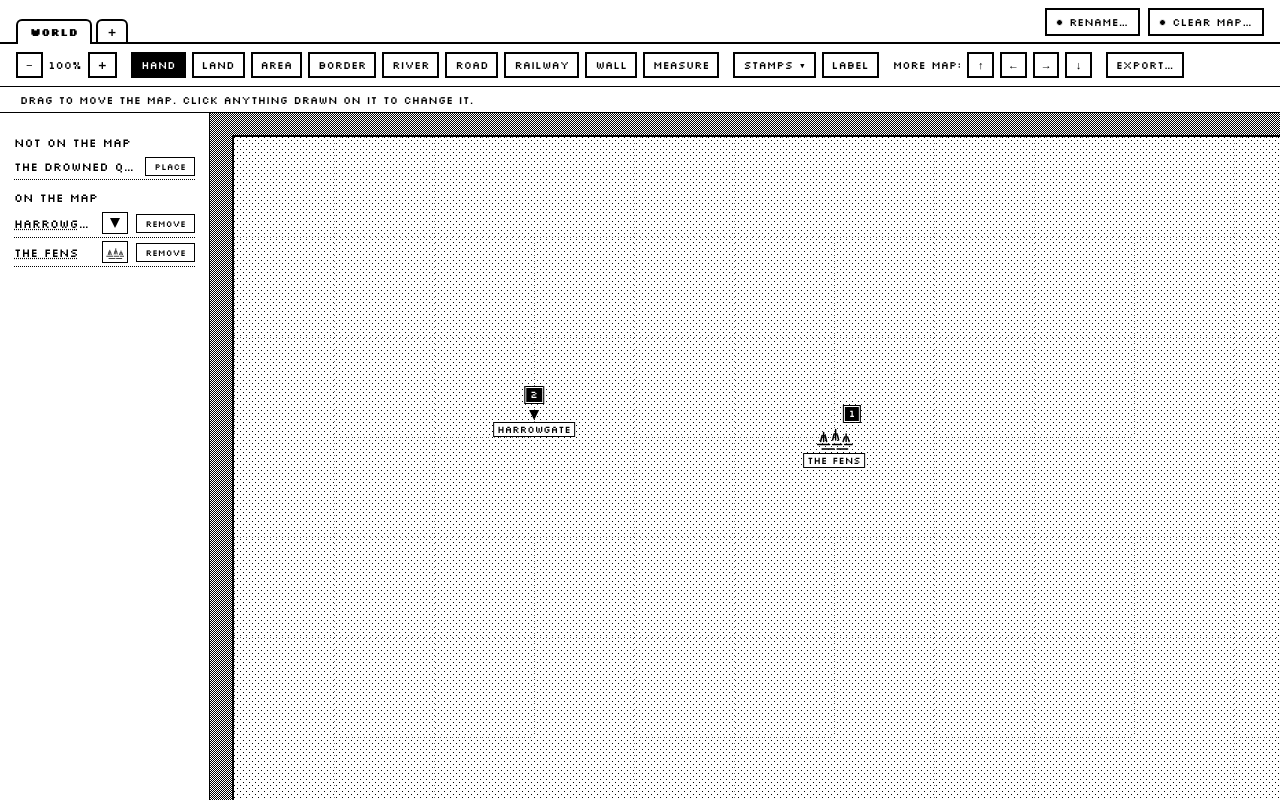
scenes on the map › opens and closes from its marker, one list at a time, over the other markers
This screenshot has width=1280, height=800.
Expected: the button with class "map-scene-count" showing "2" is shown, [525,387,543,403]
Click the button named "1 scene at The Fens" at (852, 414), box [844,406,860,422]
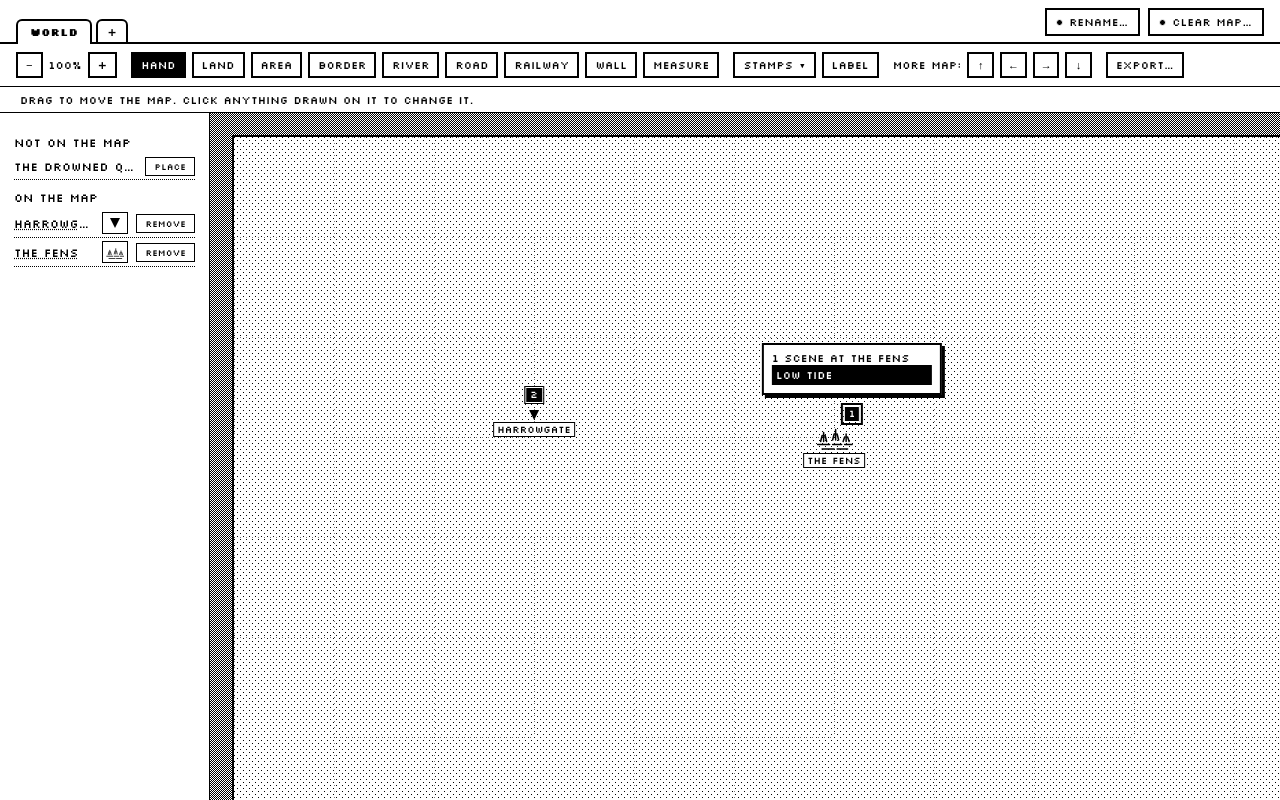
Expected: the button named "1 scene at The Fens" is expanded, [844,406,860,422]
Click the button named "2 scenes at Harrowgate" at (534, 395), box [525,387,543,403]
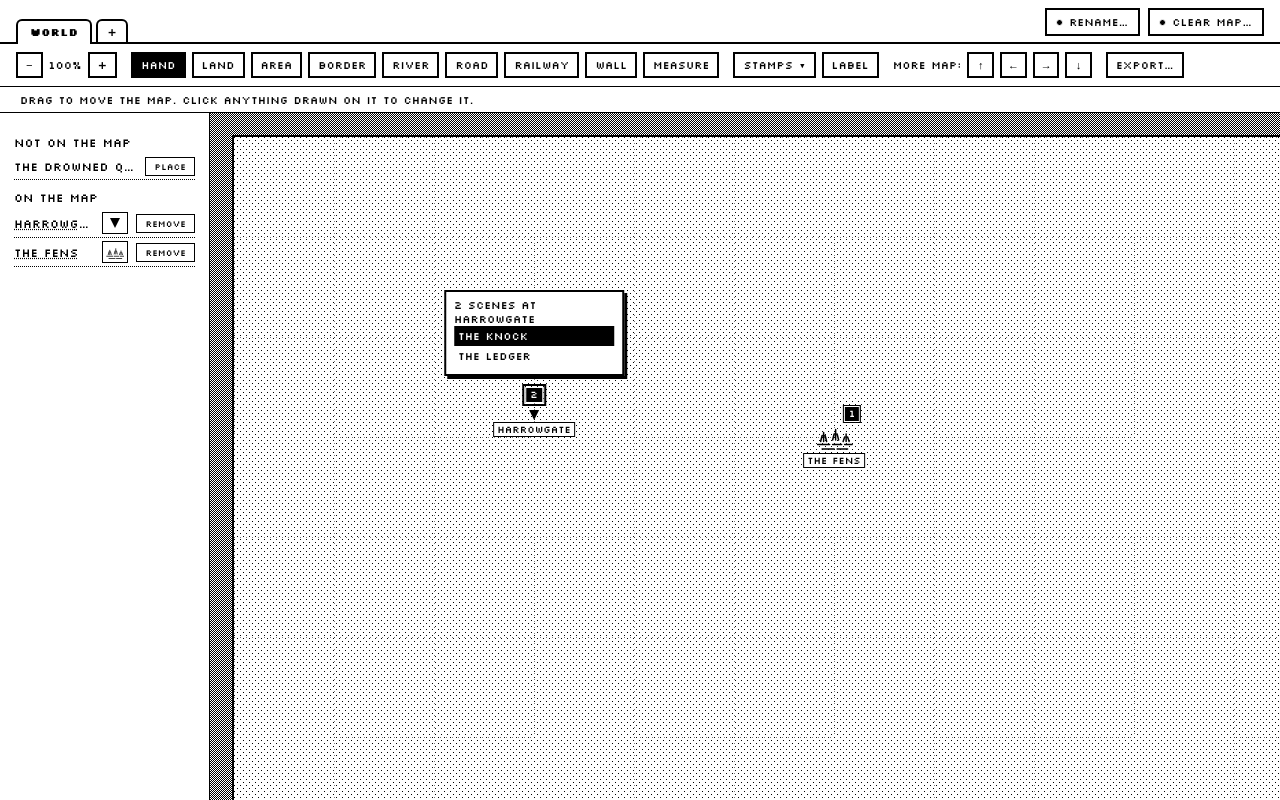
Expected: the button named "1 scene at The Fens" is collapsed, [844,406,860,422]
Click the button named "2 scenes at Harrowgate" at (534, 395), box [525,387,543,403]
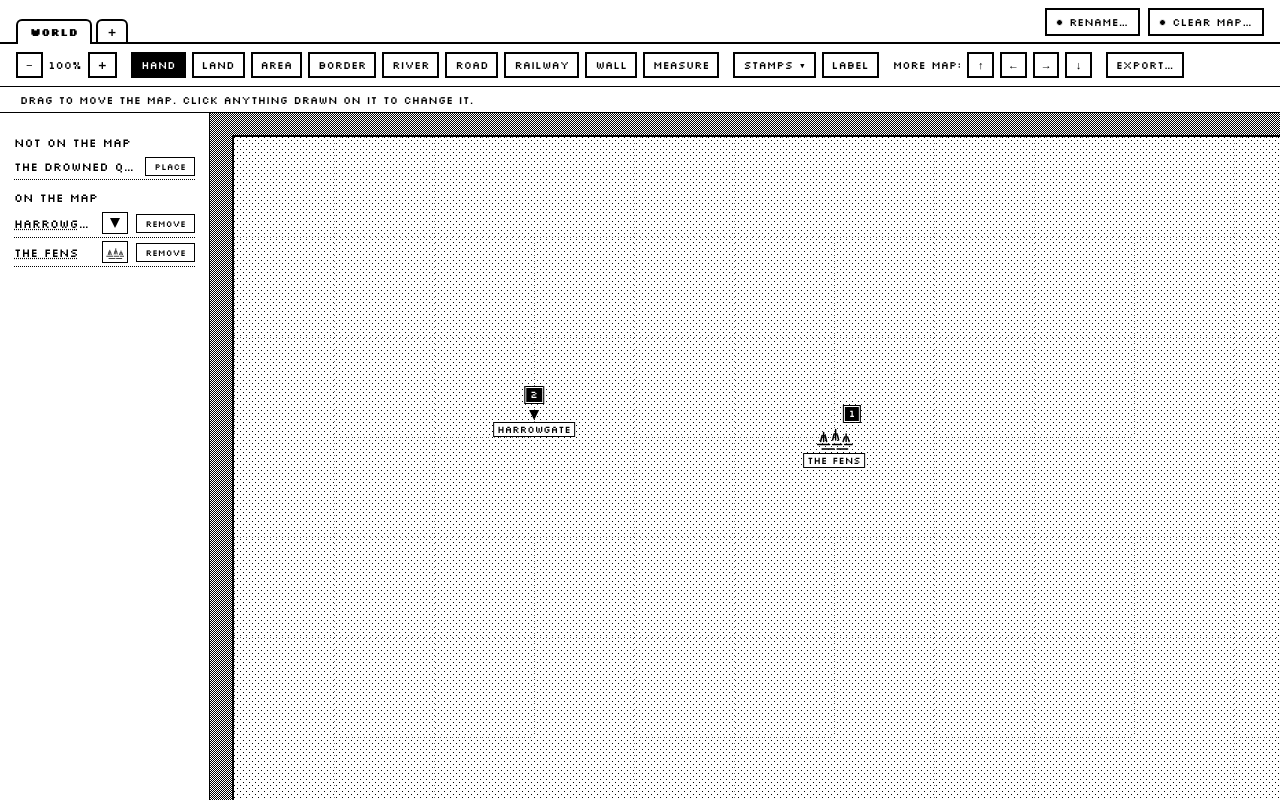
Expected: the dialog is gone
